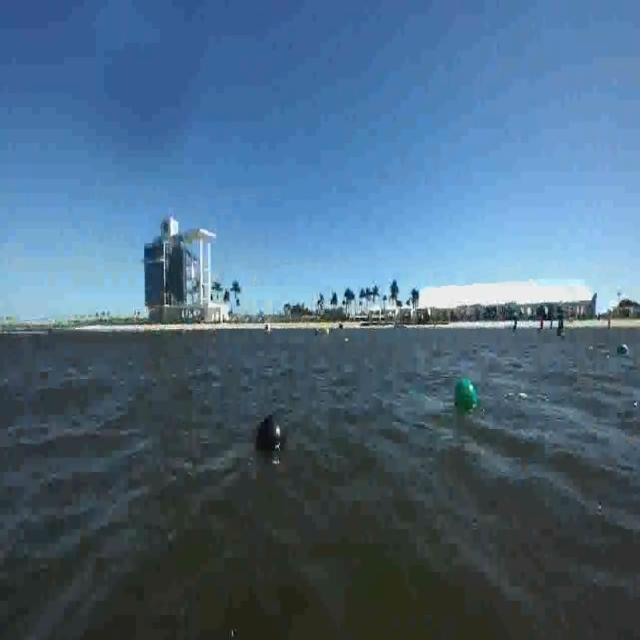black-buoy: (254, 411, 286, 448)
green-buoy: (454, 378, 476, 411)
